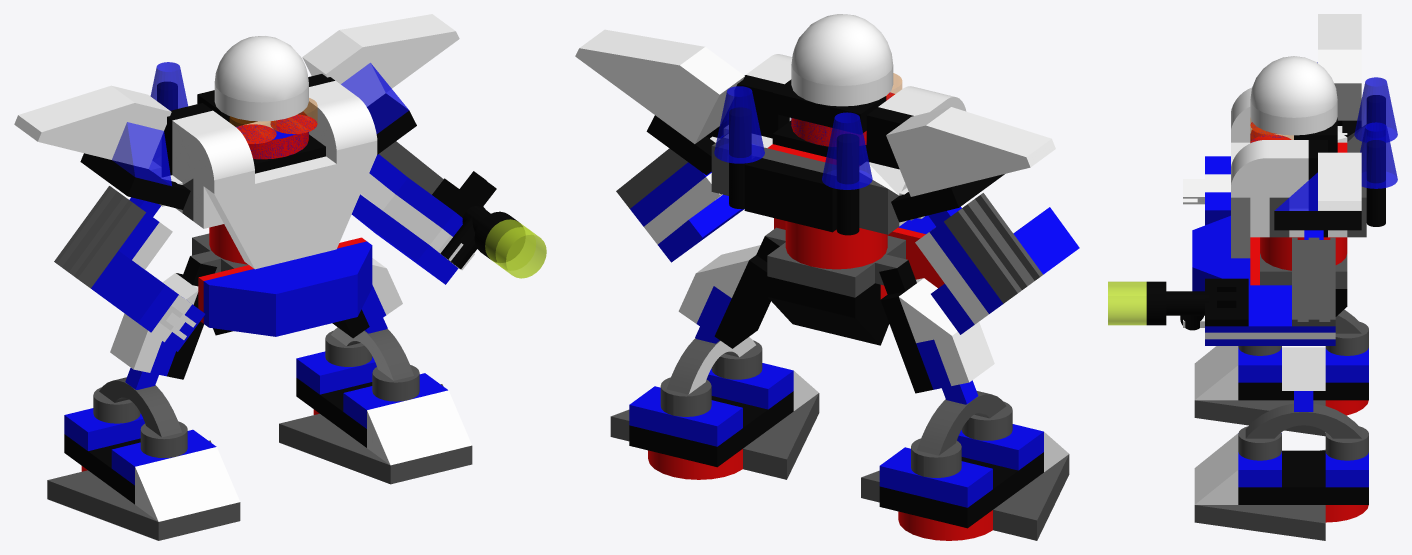
The model's file is lego robot.dae.
3 renders of one model, left to right at view 1: azimuth 30°, elevation 25°; view 2: azimuth 150°, elevation 25°; view 3: azimuth 270°, elevation 25°, orthographic. The views are drawn at different scales.
Visible parts, largest first — view 1: Model; view 2: Model; view 3: Model.
Part boxes in pixels (x1=…): Model: x1=14, y1=14, x2=546, y2=540; Model: x1=575, y1=14, x2=1079, y2=540; Model: x1=1108, y1=14, x2=1397, y2=540.
Bounding box in the file's own units: 7.75 × 4.99 × 7.44.
